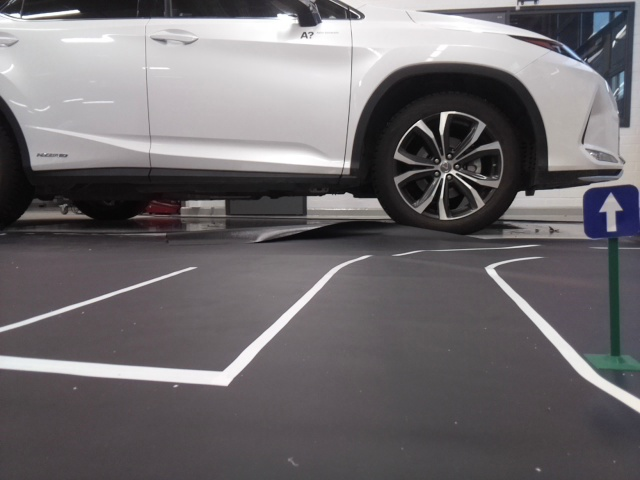OneWay: (585, 189, 638, 233)
